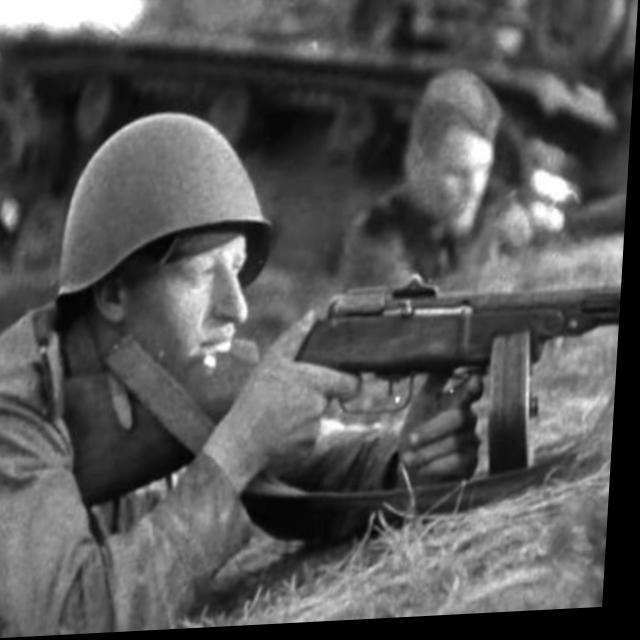other: (0, 101, 287, 608)
